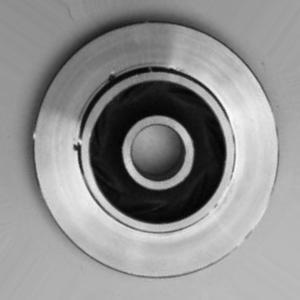defect: (61, 58, 124, 162)
